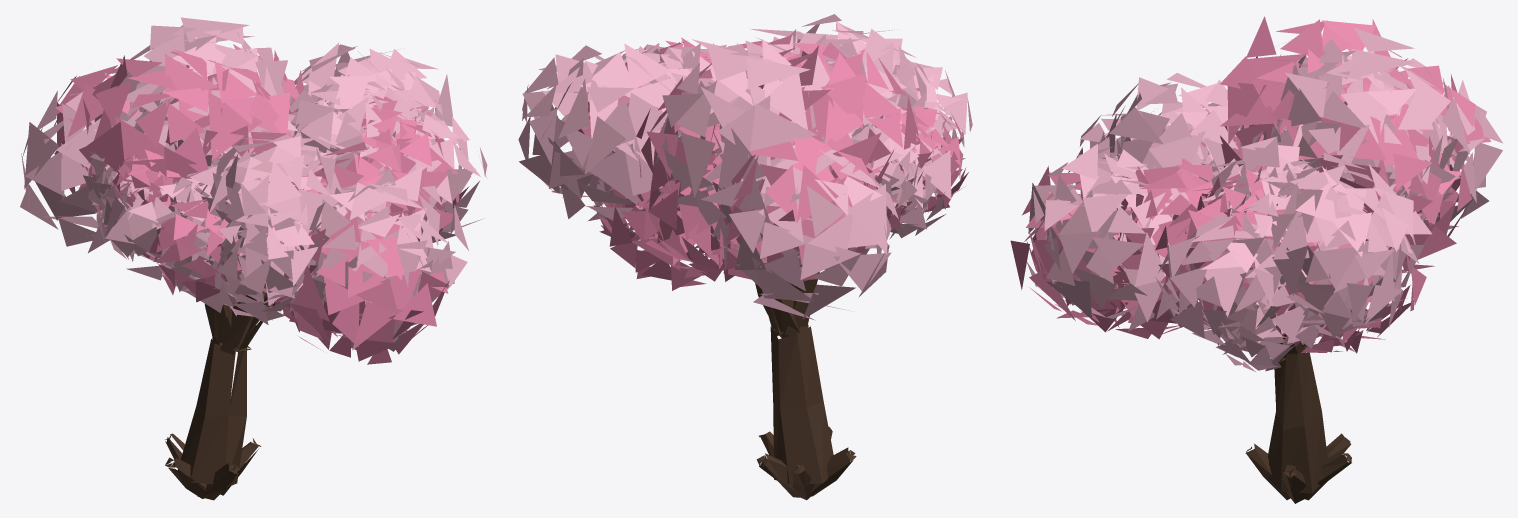
Rendered from 2-08_sakura.glb.
3 renders of one model, left to right at view 1: azimuth 30°, elevation 25°; view 2: azimuth 150°, elevation 25°; view 3: azimuth 270°, elevation 25°, orthographic. The views are drawn at different scales.
Size of the model in its own units: 5.09 by 5.66 by 5.45.
